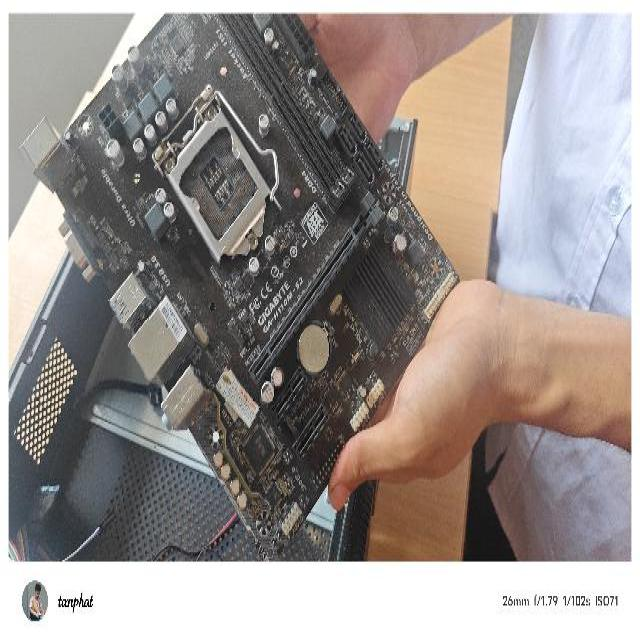Mainboard: (18, 11, 460, 562)
